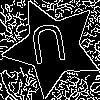U: (27, 22, 70, 74)
